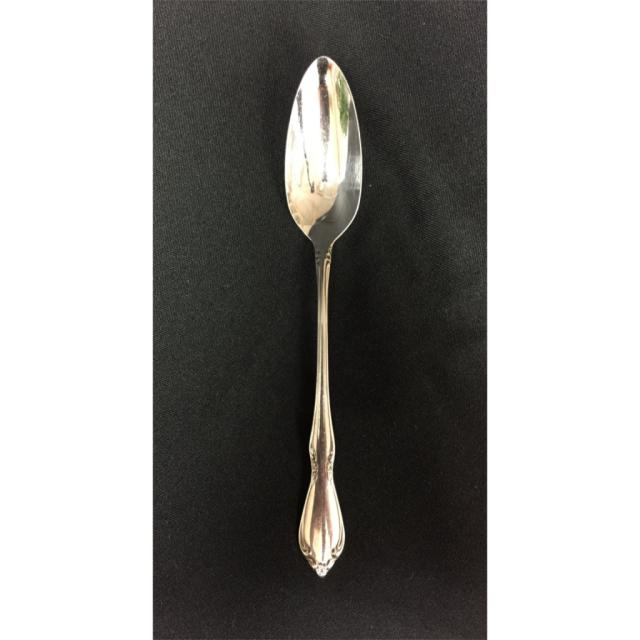spoon: (252, 35, 389, 574)
